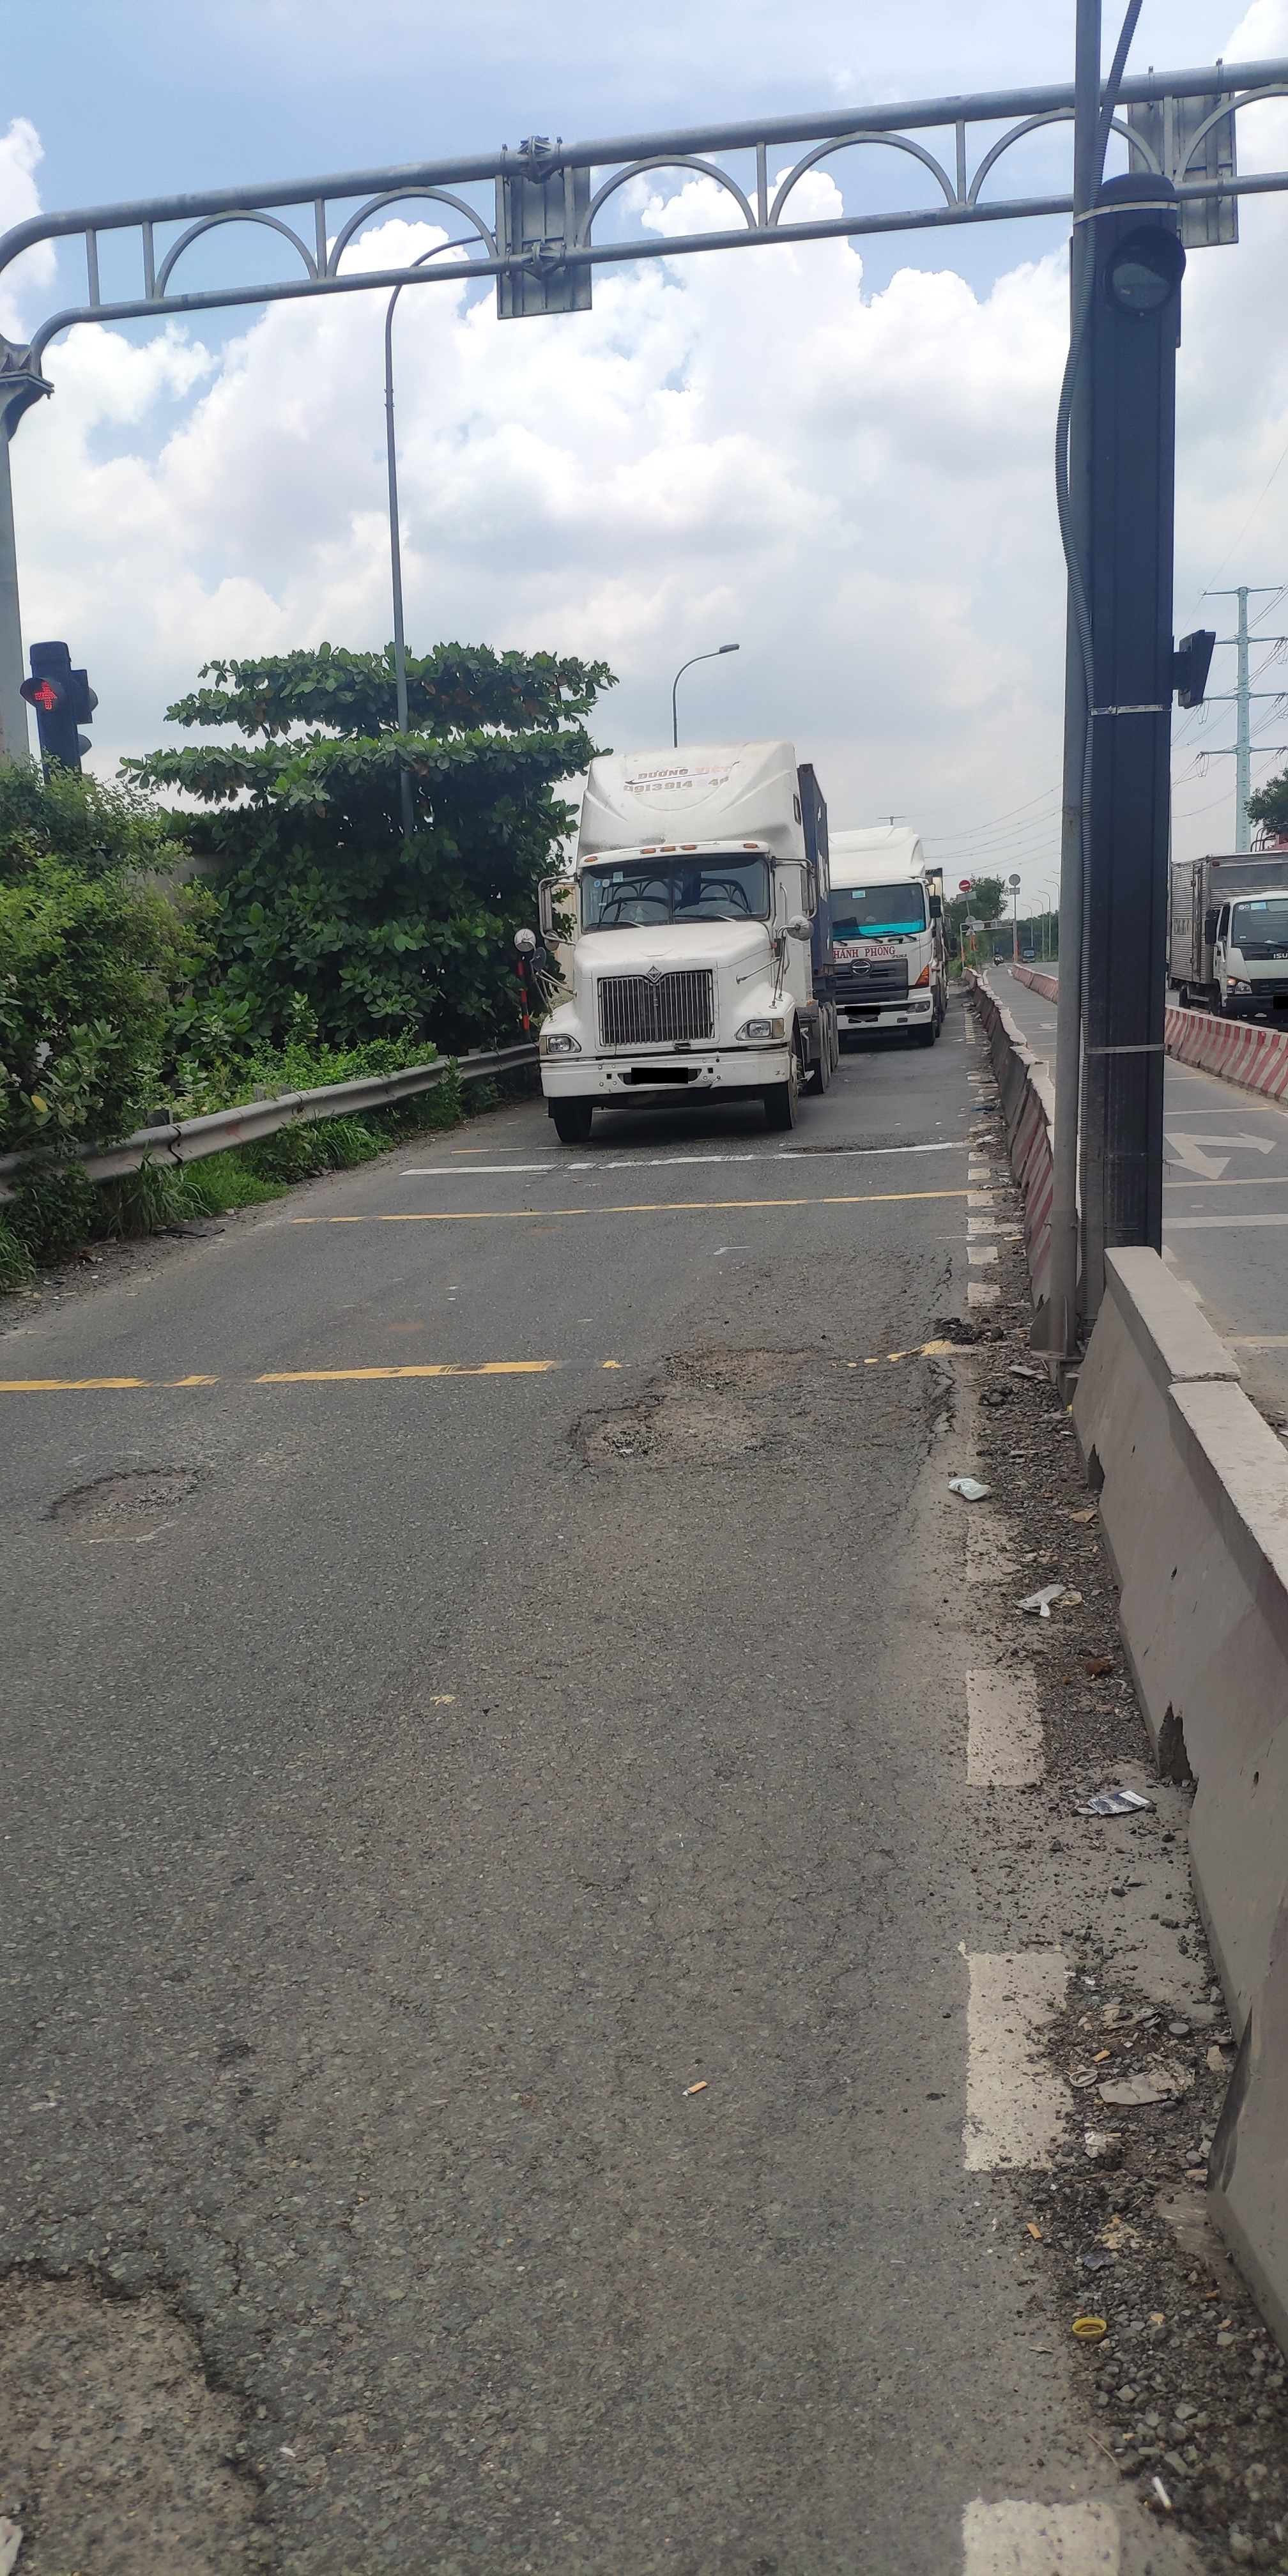hole: (3, 2246, 286, 2573), (544, 1332, 853, 1495), (28, 1457, 214, 1543)
